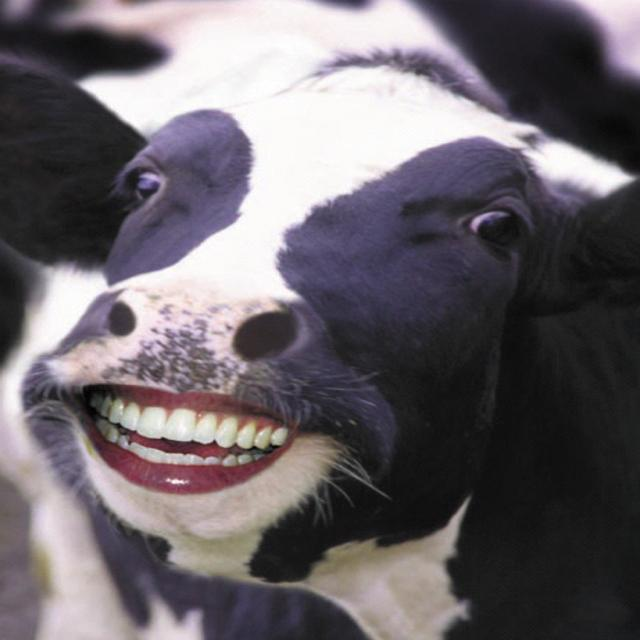Cattle: (17, 96, 619, 640)
